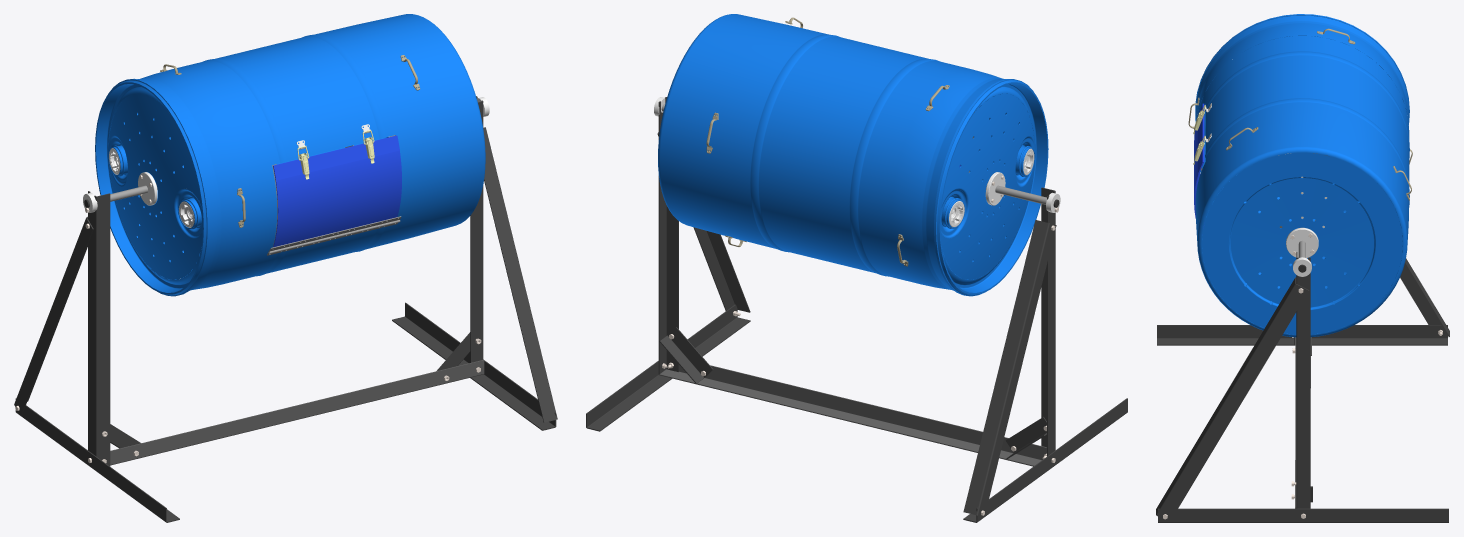
Rendered from modelo.glb.
3 views of the same model, side by side, from view 1: azimuth 30°, elevation 25°; view 2: azimuth 150°, elevation 25°; view 3: azimuth 270°, elevation 25° (orthographic). The views are drawn at different scales.
Parts seen in each view (by area): view 1: contenedor-1/55 Gal Closed Top Plastic Drum.STEP-1/55 Gal Cl, tapa con bisagras-1/Tapa-1, Barra80cm vertical -1, Barra119cm-1, Barra 80 cm diagonal-3, Barra80cm horizontal-6, Barra 80 cm diagonal-1, Barra80cm horizontal-5, Barra80cm vertical 2-2; view 2: contenedor-1/55 Gal Closed Top Plastic Drum.STEP-1/55 Gal Cl, Barra119cm-1, Barra 80 cm diagonal-1, Barra80cm horizontal-6, Barra80cm vertical 2-2, Barra80cm vertical -1, Barra80cm horizontal-5, Barra 80 cm diagonal-3, Barra de 15cm-2, Barra de 15cm-1; view 3: contenedor-1/55 Gal Closed Top Plastic Drum.STEP-1/55 Gal Cl, Barra 80 cm diagonal-3, Barra80cm horizontal-5, Barra80cm horizontal-6, Barra80cm vertical 2-2, Barra 80 cm diagonal-1, tapa con bisagras-1/Tapa-1, Brida-1, Barra119cm-1.
Boxes of the visible parts, box(x1,y1,x2,y2) form: contenedor-1/55 Gal Closed Top Plastic Drum.STEP-1/55 Gal Cl: box(95, 14, 485, 296); tapa con bisagras-1/Tapa-1: box(273, 130, 401, 247); Barra80cm vertical -1: box(88, 191, 110, 466); Barra119cm-1: box(110, 359, 484, 465); Barra 80 cm diagonal-3: box(483, 127, 557, 422); Barra80cm horizontal-6: box(392, 302, 556, 430); Barra 80 cm diagonal-1: box(14, 216, 93, 415); Barra80cm horizontal-5: box(15, 398, 179, 522); Barra80cm vertical 2-2: box(470, 96, 483, 362); contenedor-1/55 Gal Closed Top Plastic Drum.STEP-1/55 Gal Cl: box(658, 14, 1048, 296); Barra119cm-1: box(658, 365, 1046, 466); Barra 80 cm diagonal-1: box(963, 220, 1056, 517); Barra80cm horizontal-6: box(586, 304, 750, 431); Barra80cm vertical 2-2: box(658, 97, 678, 374); Barra80cm vertical -1: box(1041, 187, 1055, 456); Barra80cm horizontal-5: box(963, 398, 1127, 522); Barra 80 cm diagonal-3: box(657, 132, 750, 312); Barra de 15cm-2: box(659, 327, 713, 383); Barra de 15cm-1: box(1005, 417, 1046, 458); contenedor-1/55 Gal Closed Top Plastic Drum.STEP-1/55 Gal Cl: box(1195, 14, 1409, 337); Barra 80 cm diagonal-3: box(1156, 277, 1308, 522); Barra80cm horizontal-5: box(1157, 325, 1447, 345); Barra80cm horizontal-6: box(1158, 508, 1448, 522); Barra80cm vertical 2-2: box(1296, 252, 1310, 508); Barra 80 cm diagonal-1: box(1400, 258, 1449, 336); tapa con bisagras-1/Tapa-1: box(1193, 103, 1205, 228); Brida-1: box(1286, 228, 1318, 258); Barra119cm-1: box(1295, 337, 1310, 508).
Bounding box in the file's own units: 1.23 × 1.08 × 0.8071.
